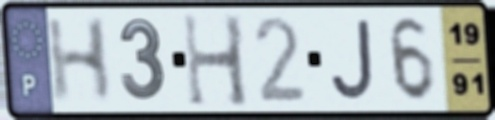2: (251, 14, 309, 106)
3: (117, 15, 168, 105)
6: (386, 14, 439, 106)
H: (179, 10, 253, 110), (43, 14, 114, 107)
J: (327, 16, 377, 103)
